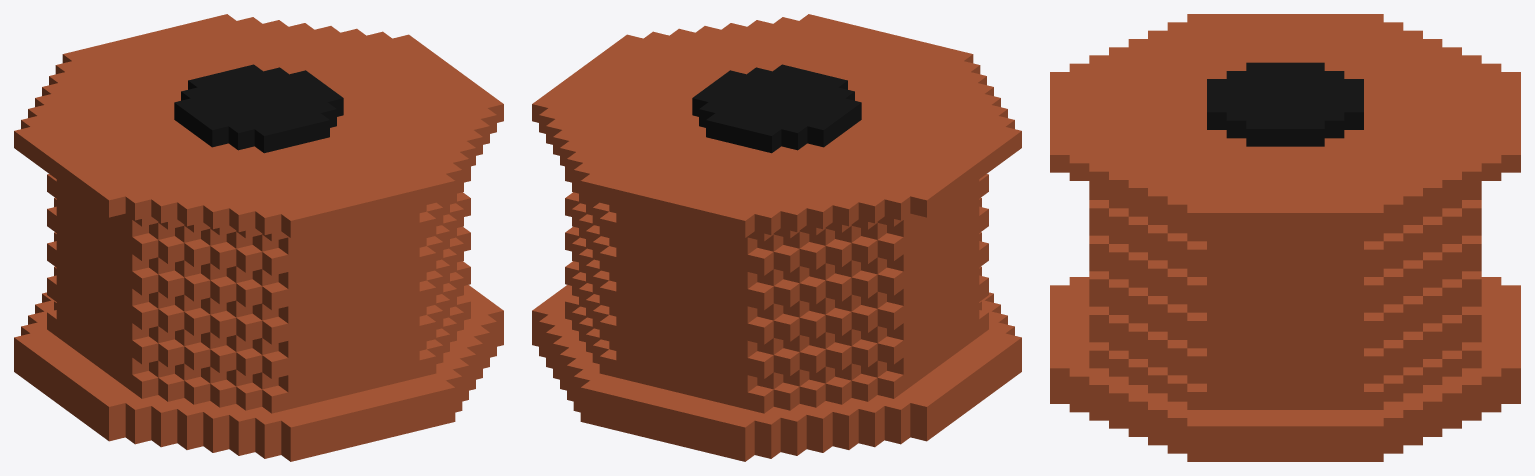
File: copper_wire.glb
3 views of the same model, side by side, from view 1: azimuth 30°, elevation 25°; view 2: azimuth 150°, elevation 25°; view 3: azimuth 270°, elevation 25° (orthographic). The views are drawn at different scales.
Visible parts, largest first — view 1: copper_wire:spool; view 2: copper_wire:spool; view 3: copper_wire:spool.
Part boxes in pixels (x1,y1,x2,y2): copper_wire:spool: (14,14,503,461); copper_wire:spool: (532,14,1021,461); copper_wire:spool: (1050,14,1520,461).
Bounding box in the file's own units: 0.096 × 0.06 × 0.096.
